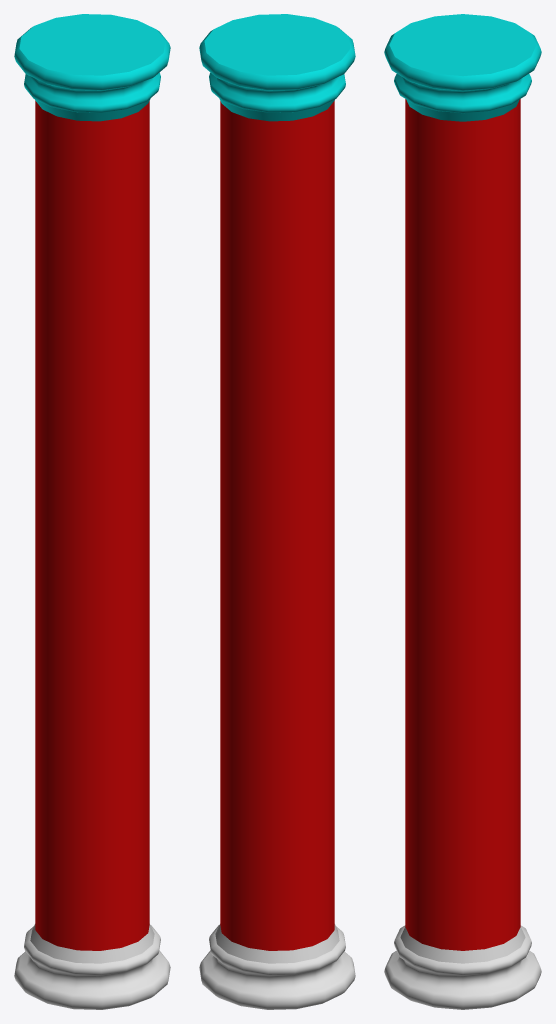
Rendered from SM_ColumnBasic5m.fbx.
3 renders of one model, left to right at view 1: azimuth 30°, elevation 25°; view 2: azimuth 150°, elevation 25°; view 3: azimuth 270°, elevation 25°, orthographic.
Parts seen in each view (by area): view 1: SM_ColumnBasic5m; view 2: SM_ColumnBasic5m; view 3: SM_ColumnBasic5m.
Boxes of the visible parts, x1,y1,x2,y2 form: SM_ColumnBasic5m: (14, 14, 170, 1009); SM_ColumnBasic5m: (199, 14, 355, 1009); SM_ColumnBasic5m: (384, 14, 541, 1009).
Bounding box in the file's own units: 76.48 × 500 × 76.48.
